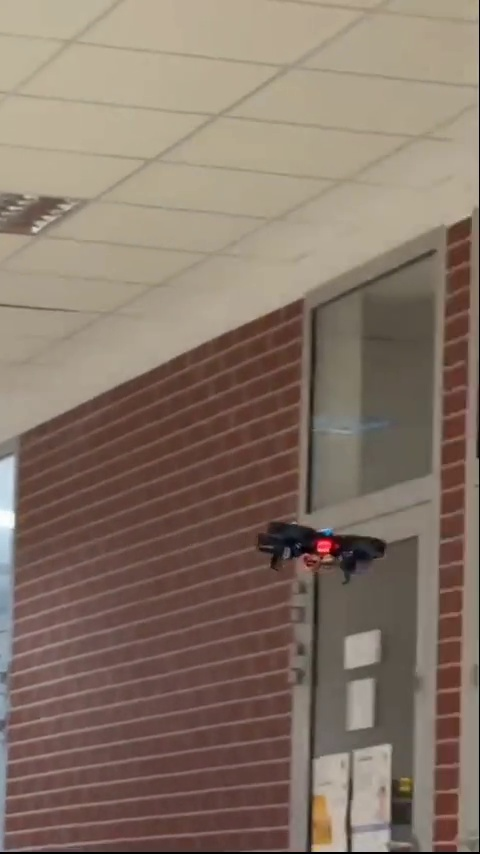drone: (248, 518, 388, 575)
